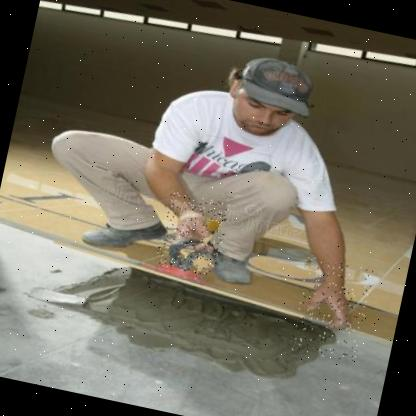bota: (83, 198, 177, 260), (197, 227, 262, 291)
